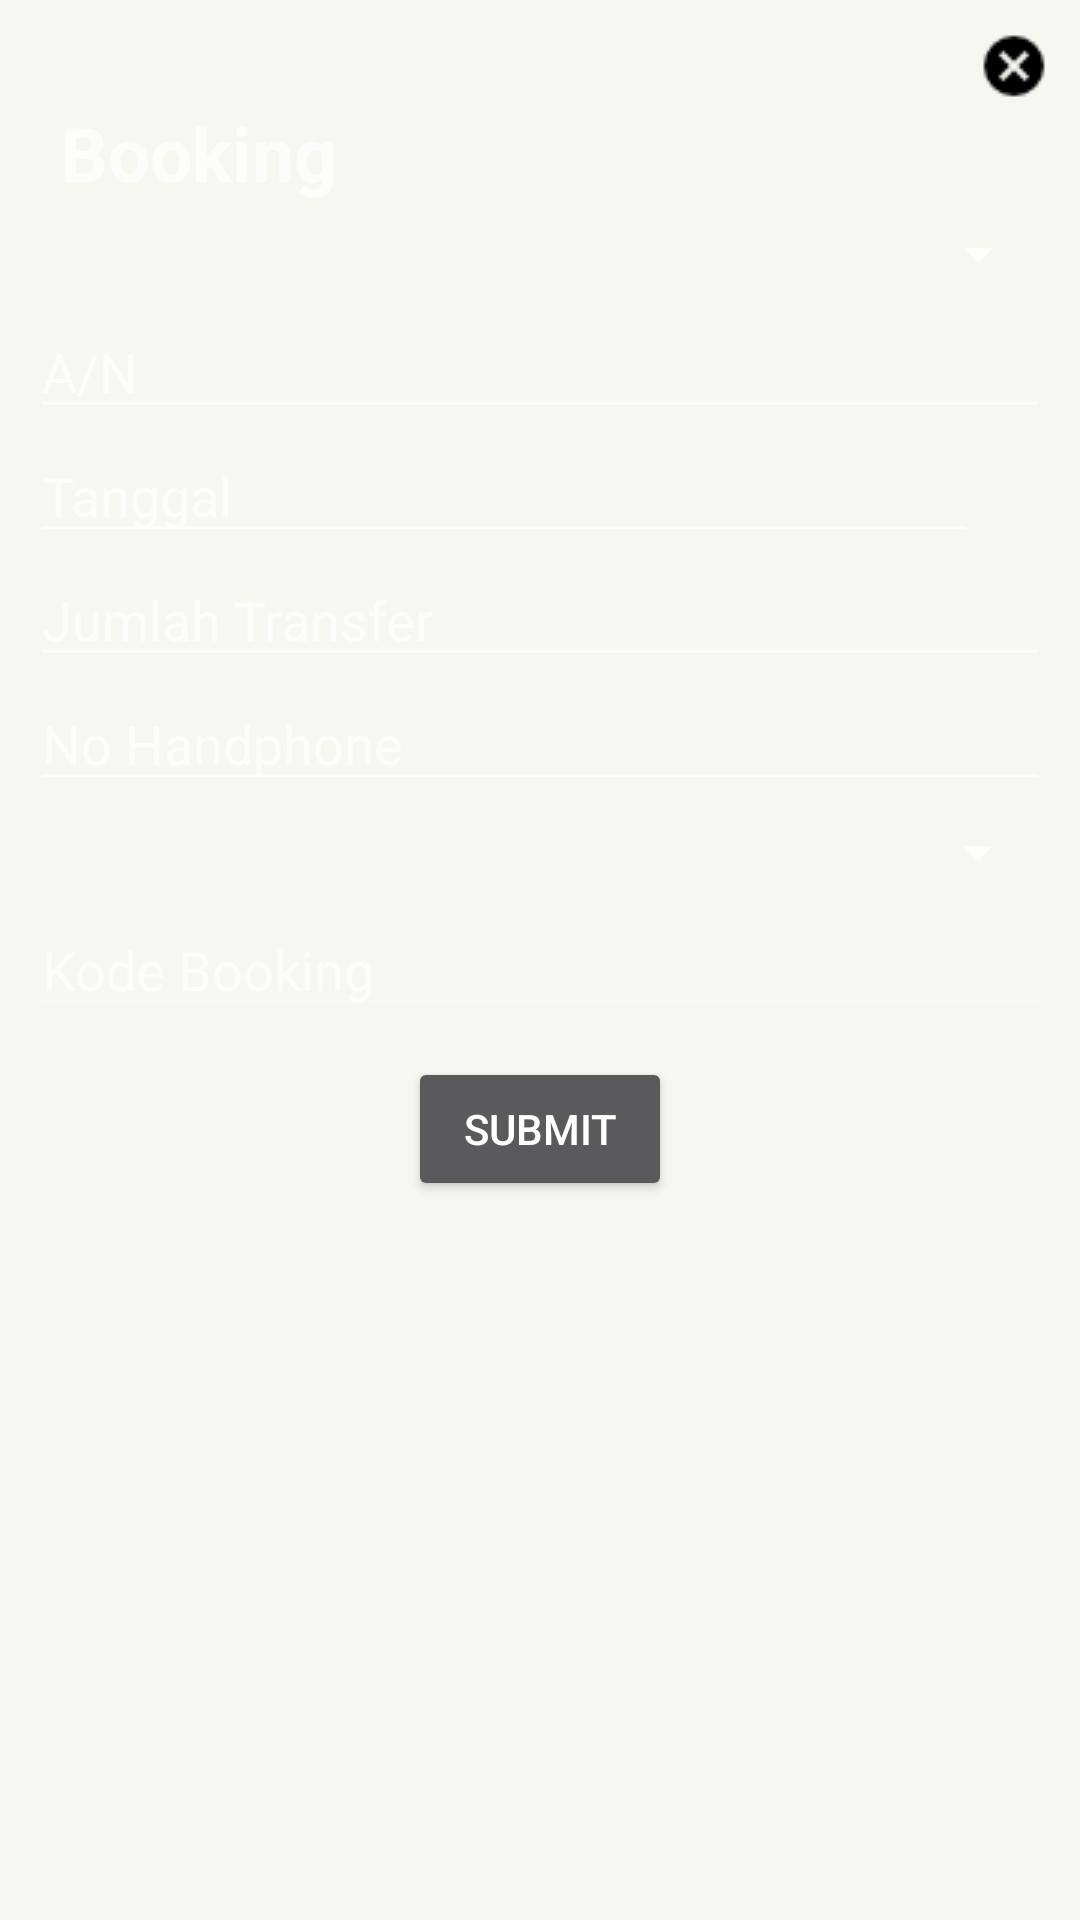

Locate icon controls on the screen. Image size 1080x1920, boxes as BBox(x1, y1, x2, y2).
cancel: BBox(983, 35, 1045, 97)
